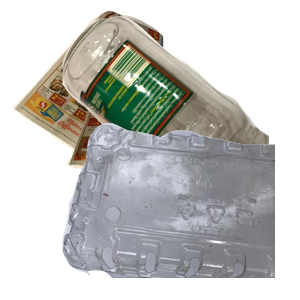glass: (60, 14, 300, 194)
paper: (10, 10, 217, 189)
plastic: (60, 120, 300, 300)
trash: (81, 137, 280, 300)
